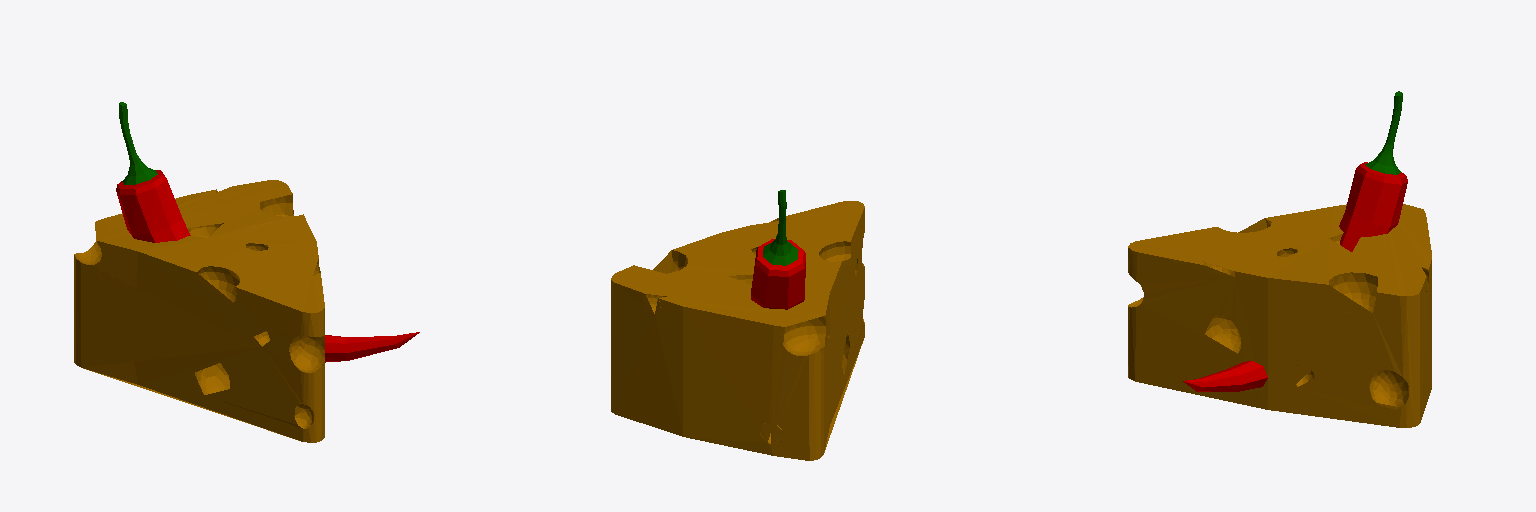
File: cheese-flaminhot.obj
3 views of the same model, side by side, from view 1: azimuth 30°, elevation 25°; view 2: azimuth 150°, elevation 25°; view 3: azimuth 270°, elevation 25° (orthographic).
Parts seen in each view (by area): view 1: queso_enchilado; view 2: queso_enchilado; view 3: queso_enchilado.
Boxes of the visible parts, <box> form: queso_enchilado: <box>74,102,419,442</box>; queso_enchilado: <box>611,190,864,460</box>; queso_enchilado: <box>1128,91,1431,427</box>.
Bounding box in the file's own units: 175 × 183 × 198.